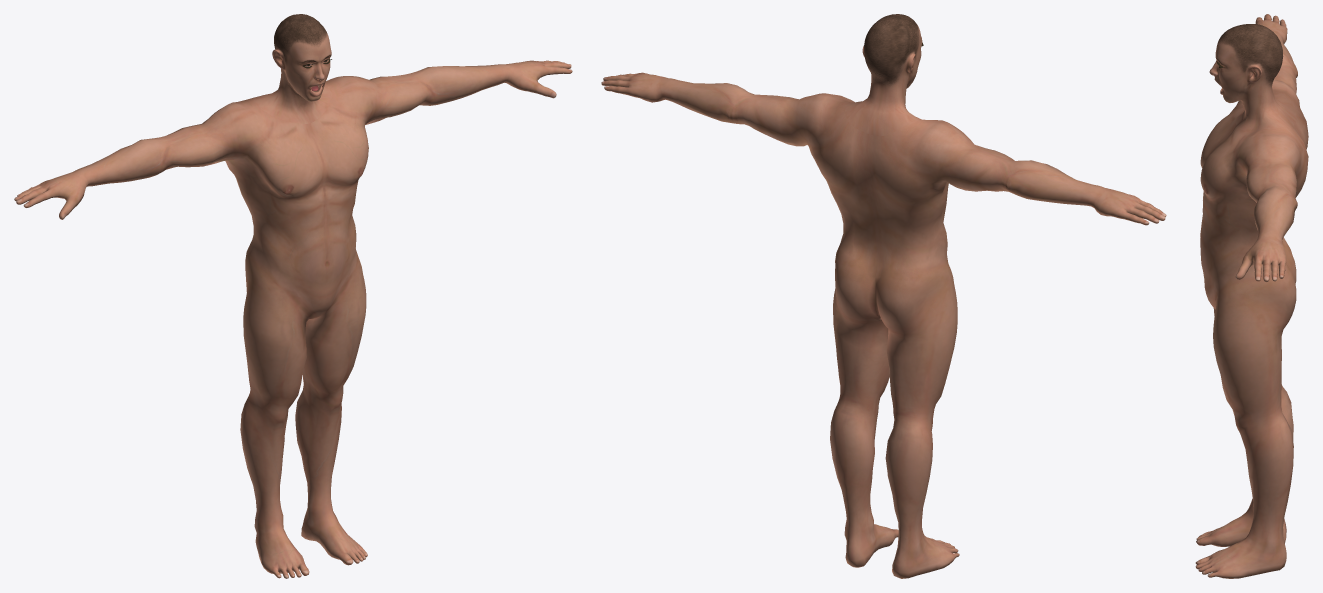
The model's file is face_extra_mouth_open.obj.
3 views of the same model, side by side, from view 1: azimuth 30°, elevation 25°; view 2: azimuth 150°, elevation 25°; view 3: azimuth 270°, elevation 25° (orthographic). The views are drawn at different scales.
Parts seen in each view (by area): view 1: BodyParts; view 2: BodyParts; view 3: BodyParts.
Boxes of the visible parts, x1,y1,x2,y2 form: BodyParts: [14, 14, 572, 578]; BodyParts: [601, 14, 1166, 578]; BodyParts: [1195, 14, 1308, 578].
Bounding box in the file's own units: 194 × 179 × 34.57.
